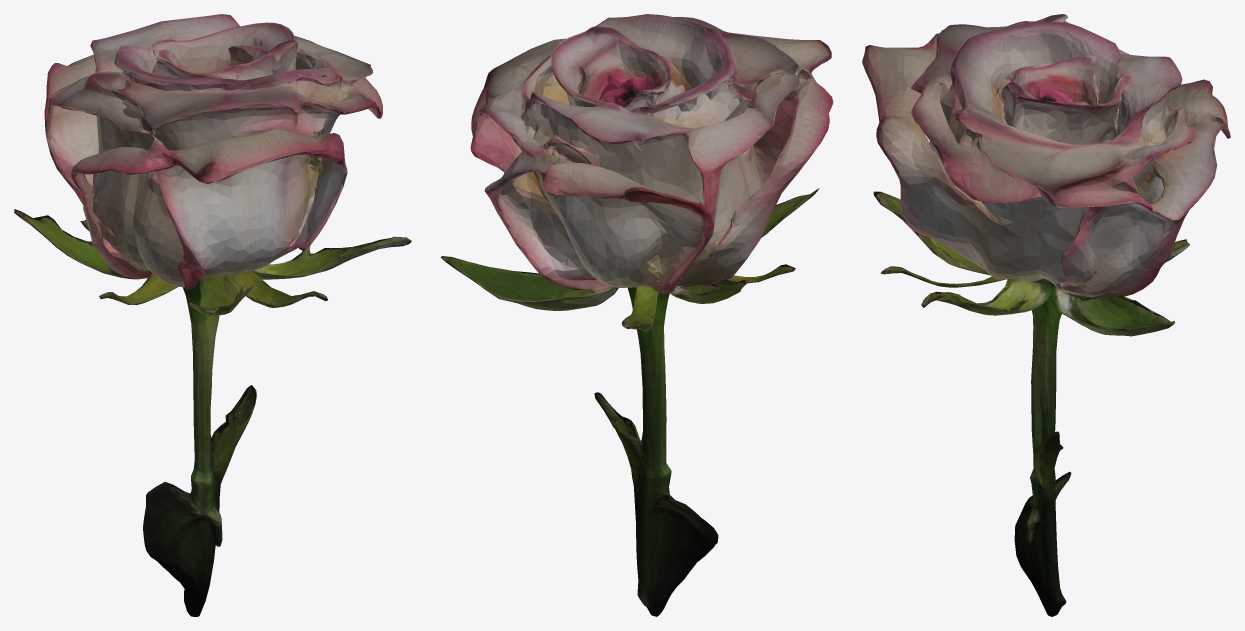
3 renders of one model, left to right at view 1: azimuth 30°, elevation 25°; view 2: azimuth 150°, elevation 25°; view 3: azimuth 270°, elevation 25°, orthographic. The views are drawn at different scales.
Parts seen in each view (by area): view 1: world; view 2: world; view 3: world.
Part boxes in pixels (box(x1,y1,x2,y2)): world: box(14, 14, 411, 616); world: box(440, 14, 833, 616); world: box(862, 14, 1230, 616).
Bounding box in the file's own units: 0.5664 × 0.9827 × 0.5773.
1 material, 1 textured.
